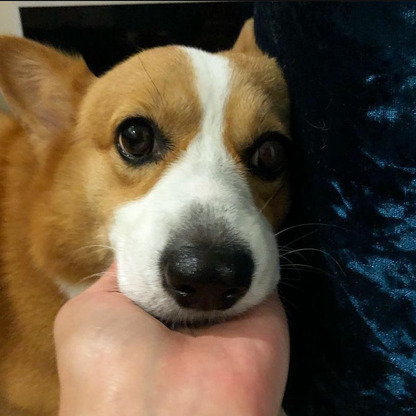Corgi: (24, 28, 322, 323)
